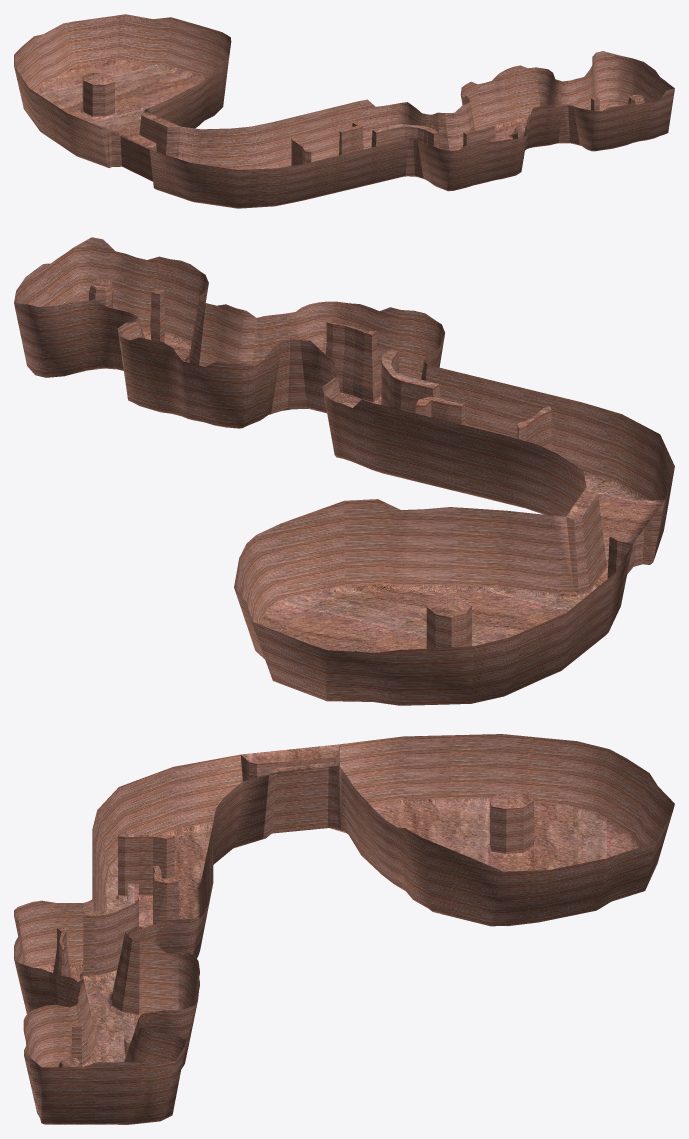
Rendered from canyonfinal.DAE.
3 renders of one model, top to bottom at view 1: azimuth 30°, elevation 25°; view 2: azimuth 150°, elevation 25°; view 3: azimuth 270°, elevation 25°, orthographic. The views are drawn at different scales.
Parts seen in each view (by area): view 1: Plan01; view 2: Plan01; view 3: Plan01.
Part boxes in pixels (x1,y1,x2,y2): Plan01: (14, 14, 674, 208); Plan01: (14, 237, 674, 705); Plan01: (14, 734, 674, 1124).
Size of the model in its own units: 933 by 779 by 101.
